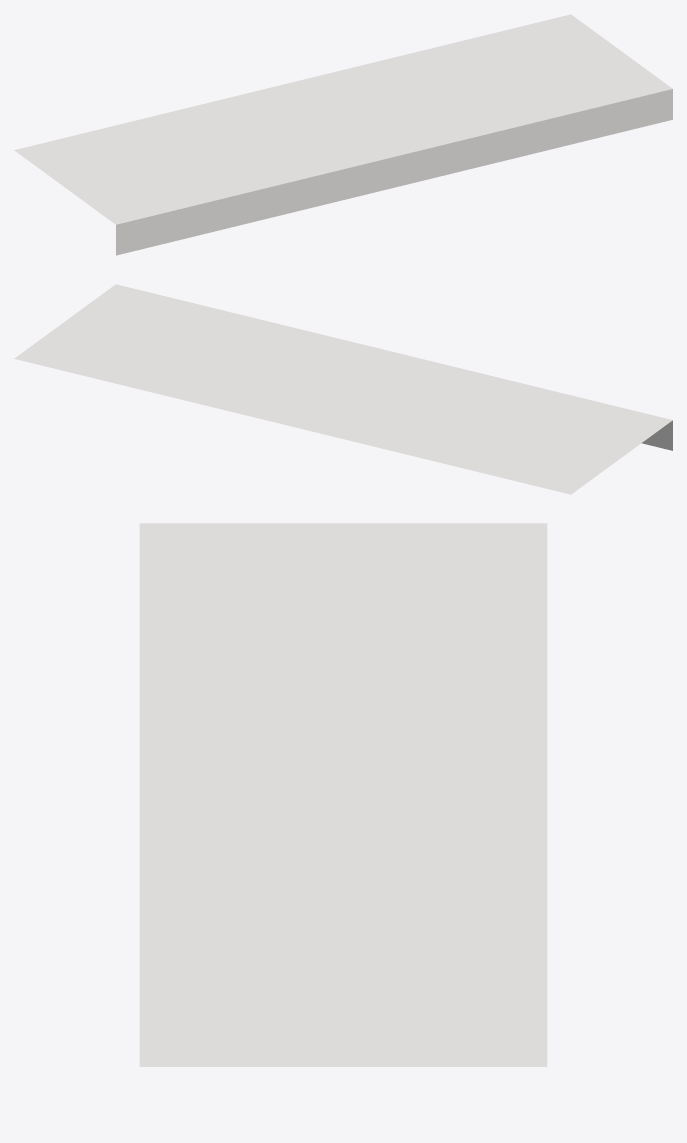
3 renders of one model, top to bottom at view 1: azimuth 30°, elevation 25°; view 2: azimuth 150°, elevation 25°; view 3: azimuth 270°, elevation 25°, orthographic. The views are drawn at different scales.
Visible parts, largest first — view 1: Plane; view 2: Plane; view 3: Plane.
Part boxes in pixels (x1,y1,x2,y2): Plane: (14, 14, 672, 255); Plane: (14, 284, 672, 494); Plane: (139, 523, 547, 1066).
Bounding box in the file's own units: 16784 × 5319 × 888.
